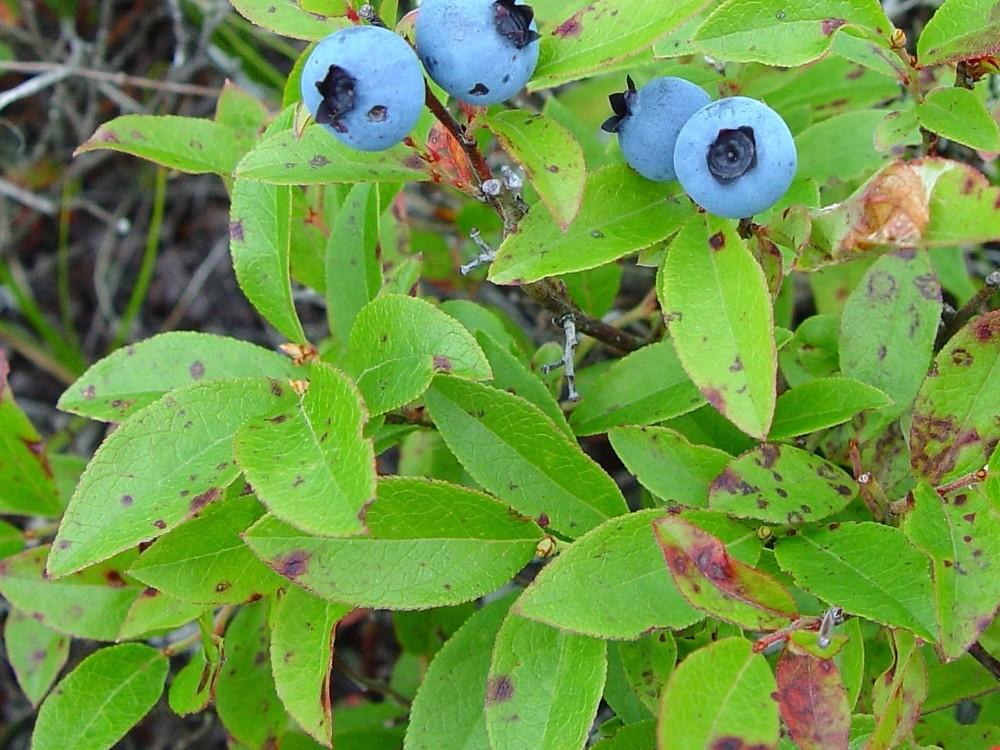Blueberry leaf: (47, 315, 381, 601), (242, 468, 554, 617), (412, 361, 636, 532), (517, 502, 773, 648), (747, 478, 958, 653), (482, 153, 712, 308), (810, 201, 951, 449), (236, 583, 393, 747), (223, 123, 327, 358), (34, 630, 229, 750), (468, 97, 618, 237), (478, 584, 601, 750), (666, 1, 893, 72), (68, 113, 248, 188), (323, 174, 399, 339)
